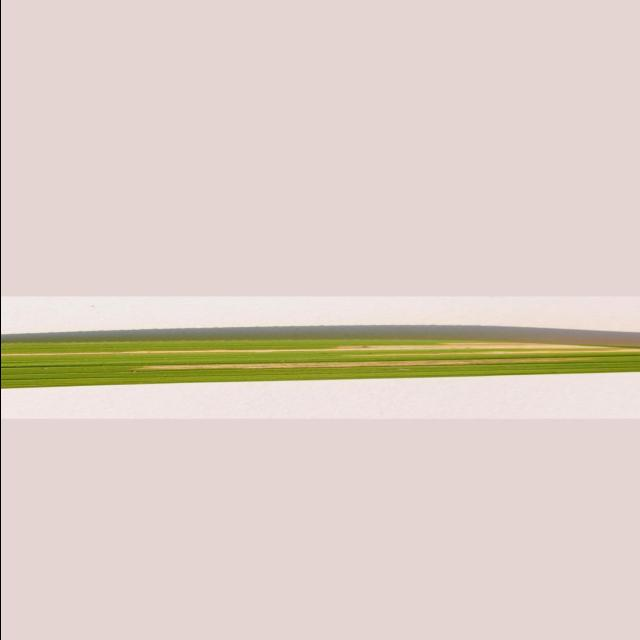Bacterial leaf blight: (0, 300, 640, 426)
